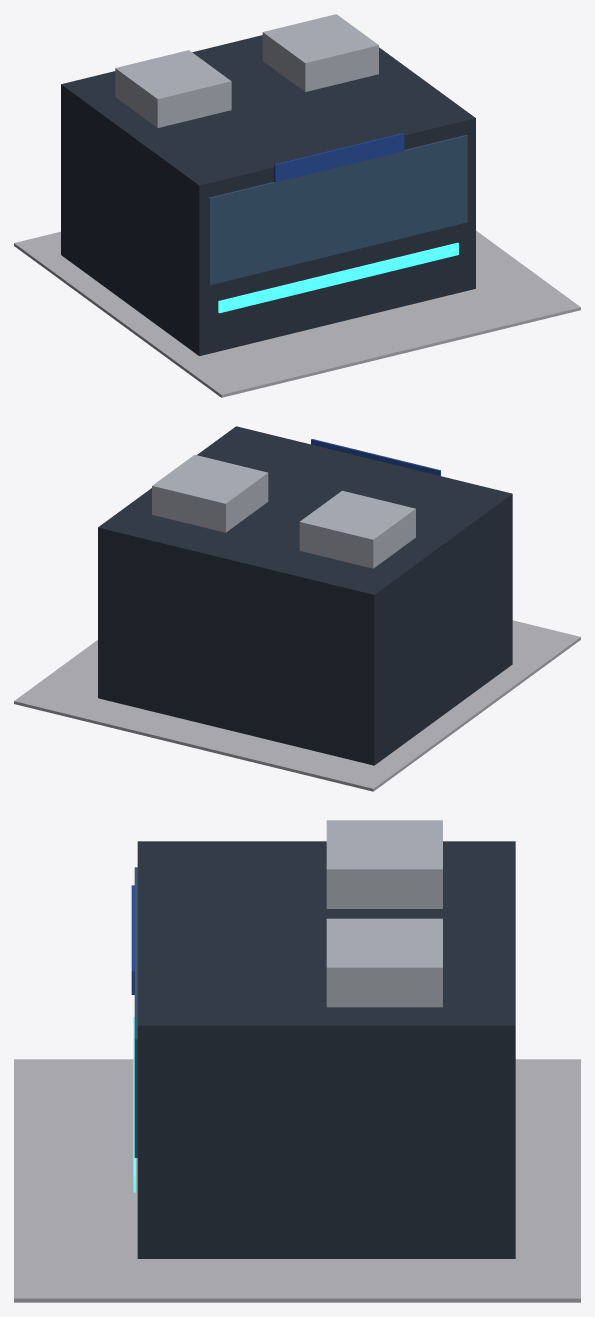
Rendered from hq_4_data_campus.glb.
The picture shows the model from 3 angles, top to bottom: view 1: azimuth 30°, elevation 25°; view 2: azimuth 150°, elevation 25°; view 3: azimuth 270°, elevation 25°; orthographic projection. The views are drawn at different scales.
Visible parts, largest first — view 1: Block, Plaza, GlassBand, Cool1, Cool2, Racks, Sign; view 2: Block, Plaza, Cool2, Cool1, Sign; view 3: Block, Plaza, Cool2, Cool1, GlassBand.
Part boxes in pixels (x1,y1,x2,y2): Block: (61, 35, 475, 355); Plaza: (14, 230, 580, 397); GlassBand: (208, 135, 467, 285); Cool1: (115, 50, 231, 127); Cool2: (262, 14, 378, 91); Racks: (218, 242, 458, 313); Sign: (274, 133, 404, 182); Block: (98, 426, 512, 765); Plaza: (14, 620, 580, 791); Cool2: (152, 454, 268, 532); Cool1: (299, 490, 415, 568); Sign: (311, 439, 440, 475); Block: (137, 841, 515, 1258); Plaza: (14, 1059, 580, 1302); Cool2: (326, 918, 442, 1007); Cool1: (326, 820, 442, 908); GlassBand: (134, 867, 137, 1157).
Size of the model in its own units: 3.9 by 2.1 by 3.9.
